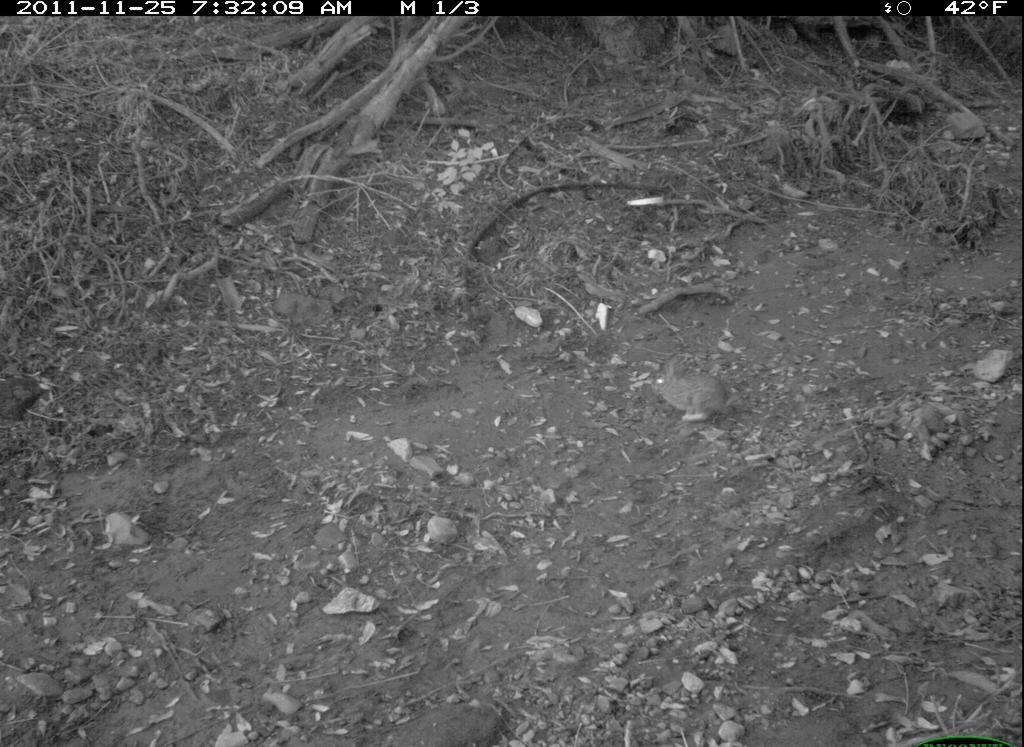rabbit: (643, 356, 744, 437)
